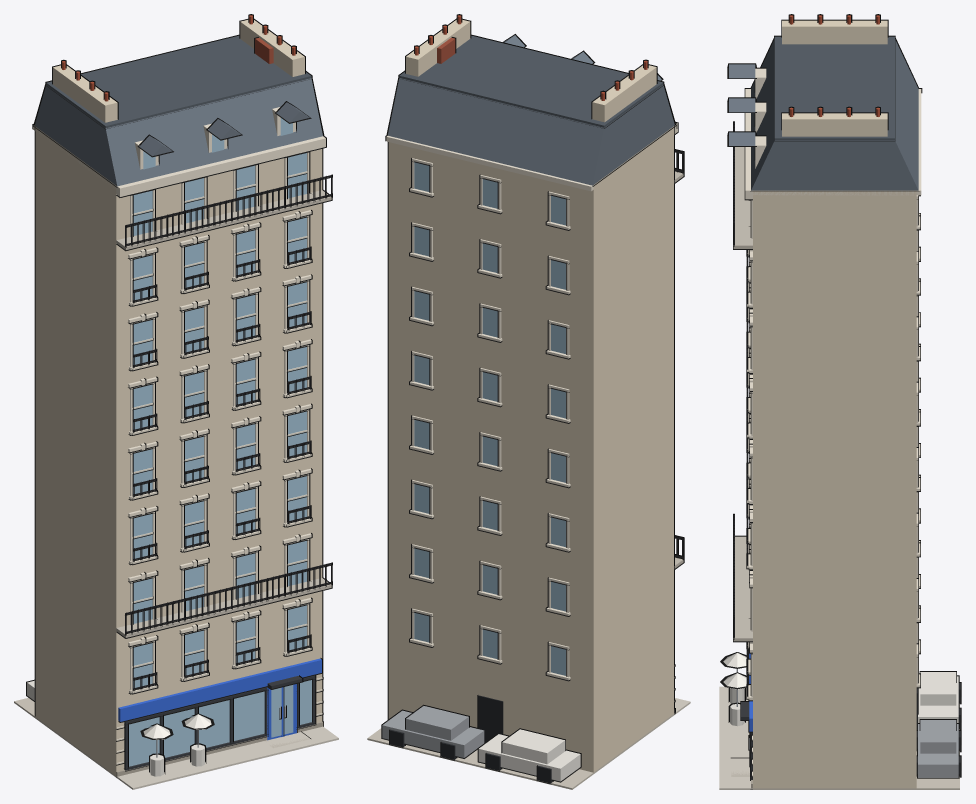
The model's file is Blok_duz_9k_6.fbx.
3 views of the same model, side by side, from view 1: azimuth 30°, elevation 25°; view 2: azimuth 150°, elevation 25°; view 3: azimuth 270°, elevation 25° (orthographic).
Parts seen in each view (by area): view 1: Blok_duz_9k_6; view 2: Blok_duz_9k_6; view 3: Blok_duz_9k_6.
Boxes of the visible parts, left/top/right/bottom form: Blok_duz_9k_6: left=14, top=14, right=338, bottom=789; Blok_duz_9k_6: left=367, top=14, right=690, bottom=789; Blok_duz_9k_6: left=719, top=14, right=961, bottom=789.
Size of the model in its own units: 10.1 by 31.13 by 10.07.
